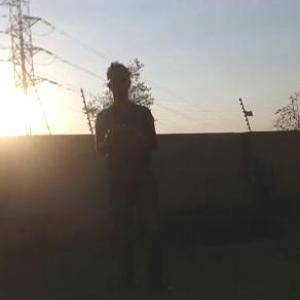follow: (93, 54, 183, 284)
